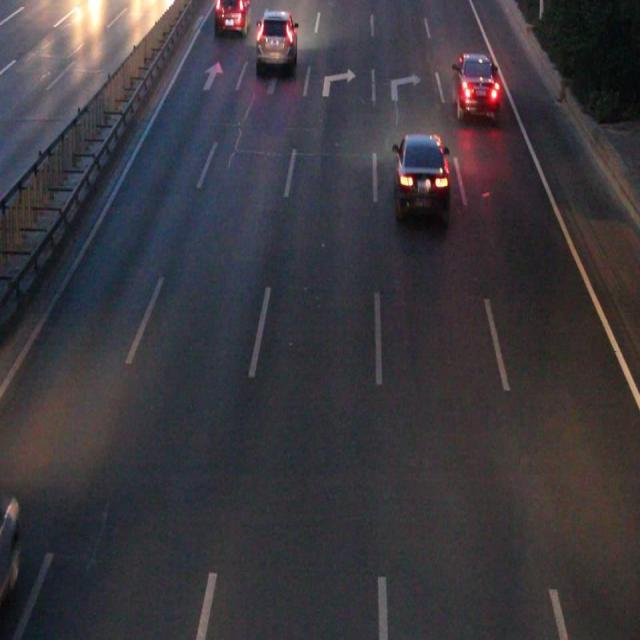car: (393, 135, 448, 217), (453, 54, 496, 118), (256, 12, 297, 69), (1, 492, 18, 608), (214, 1, 250, 32)
